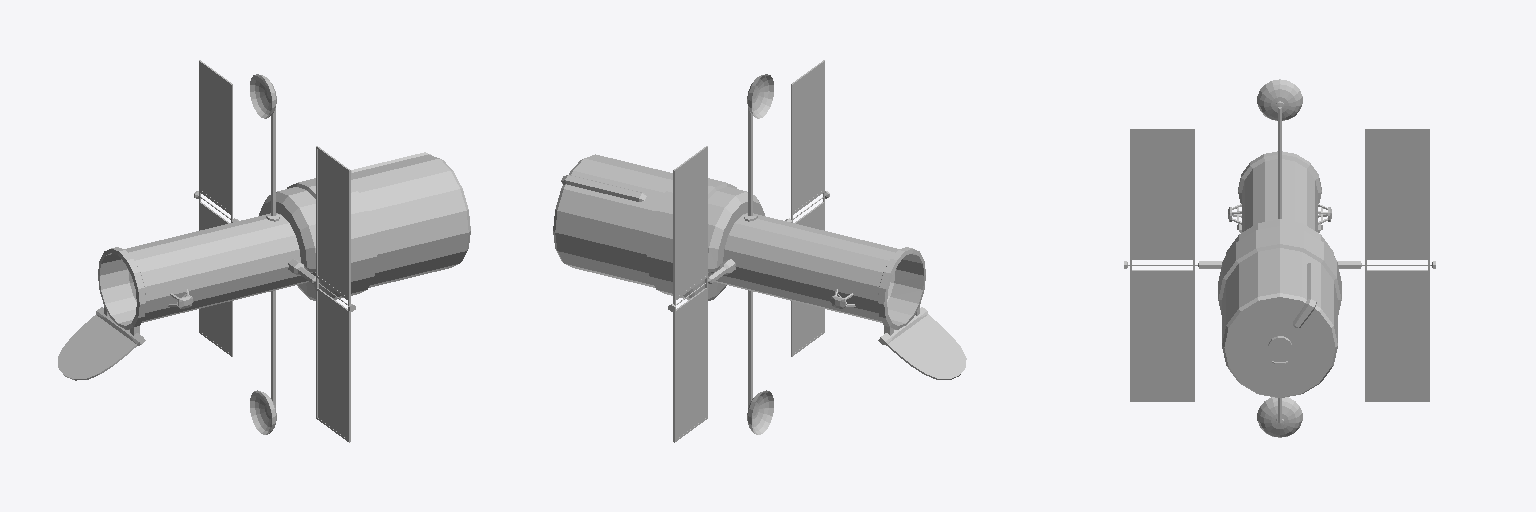
The model's file is hubble.obj.
The picture shows the model from 3 angles: view 1: azimuth 30°, elevation 25°; view 2: azimuth 150°, elevation 25°; view 3: azimuth 270°, elevation 25°; orthographic projection.
Parts seen in each view (by area): view 1: hubbble; view 2: hubbble; view 3: hubbble.
Boxes of the visible parts, x1,y1,x2,y2 form: hubbble: [58, 60, 470, 442]; hubbble: [553, 60, 966, 442]; hubbble: [1124, 79, 1435, 437].
Bounding box in the file's own units: 8.76 × 7.81 × 6.15.